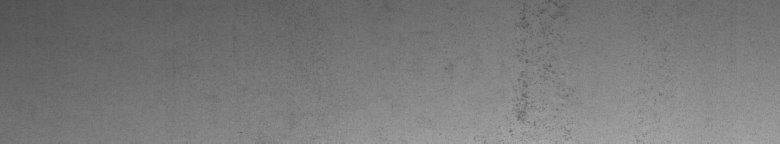ib: (445, 4, 564, 136)
